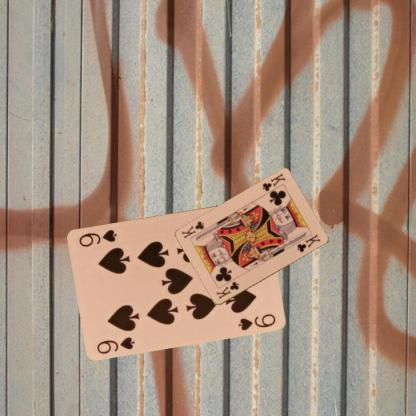9s: (95, 334, 136, 355)
Kc: (213, 279, 240, 301), (260, 171, 287, 193)
